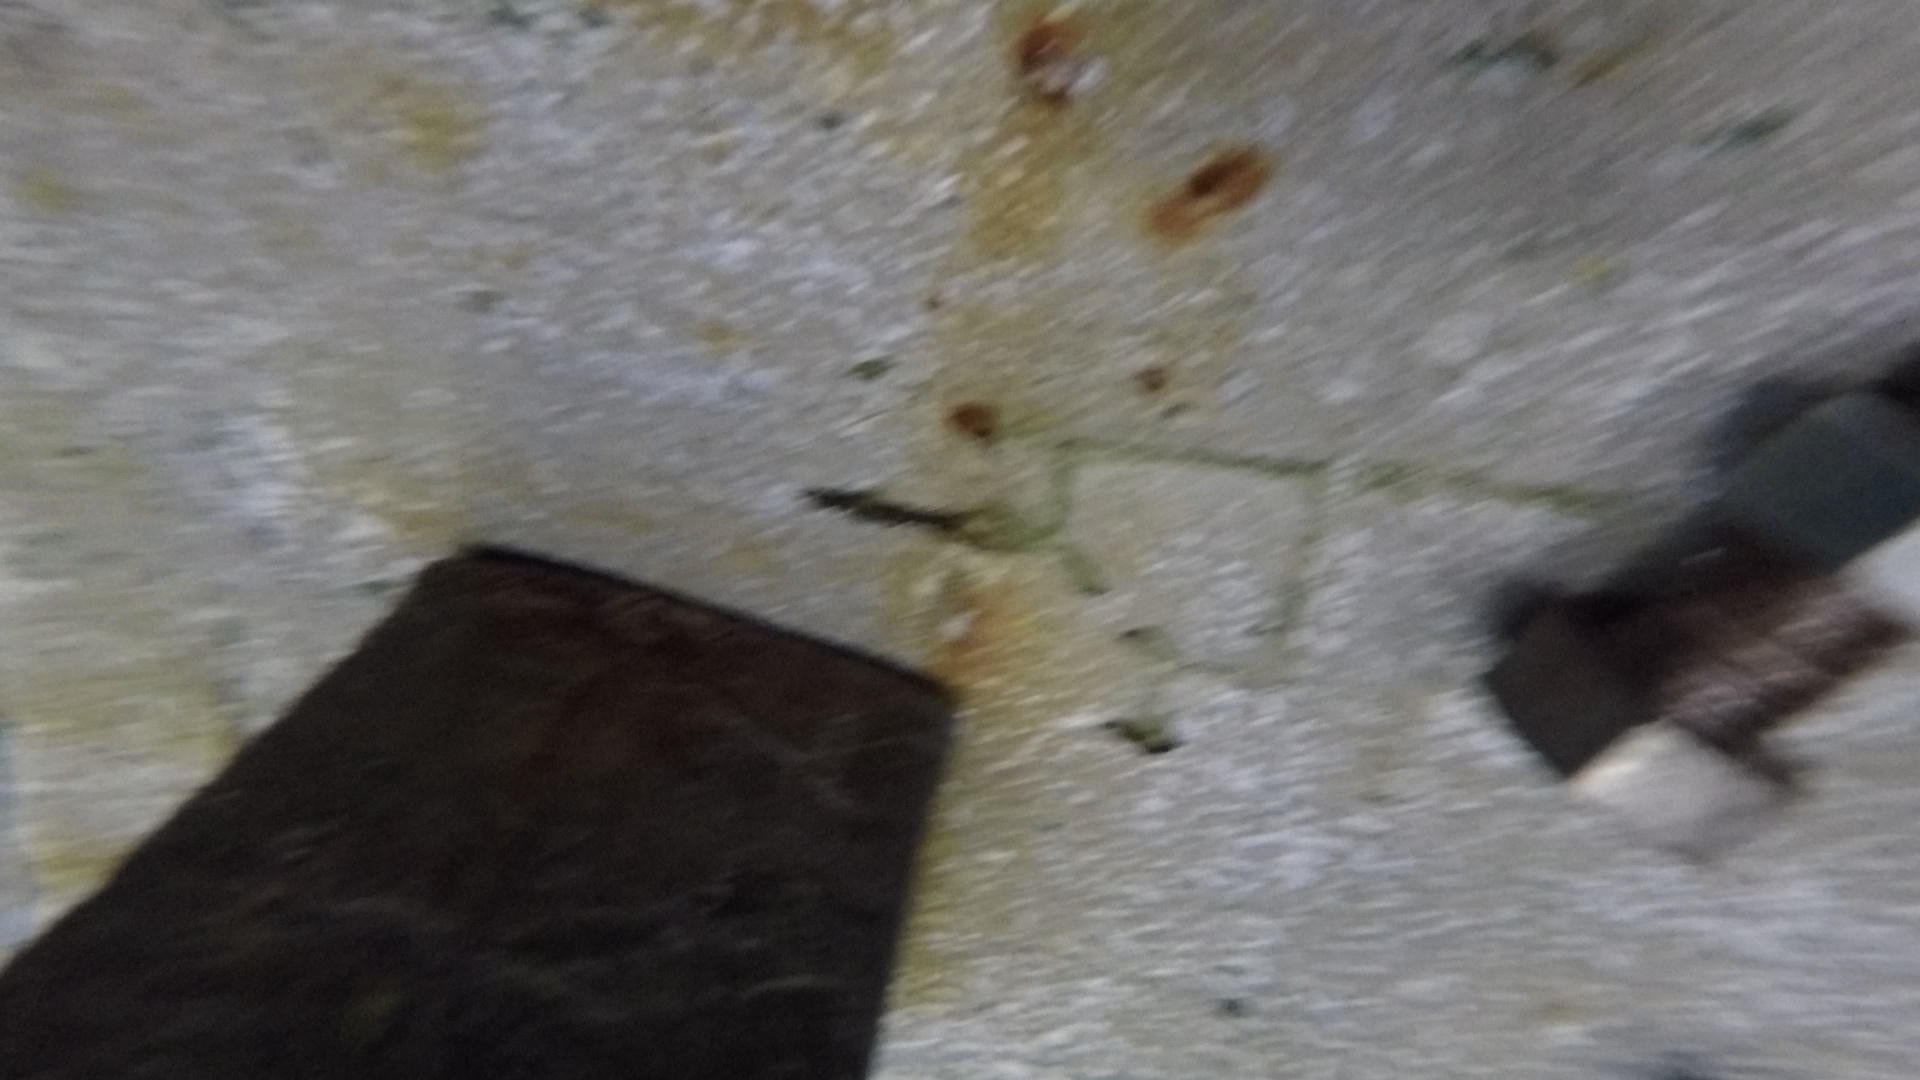bolt: (1487, 360, 1920, 877)
led_block: (3, 545, 967, 1080)
nut: (1702, 367, 1920, 633)
